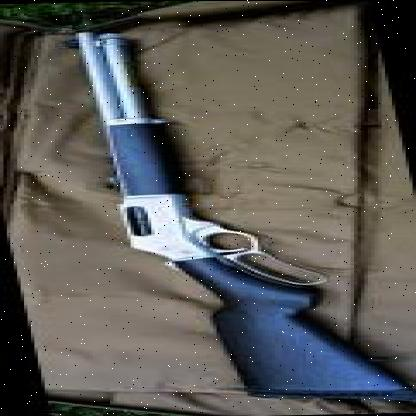rifle: (58, 23, 416, 408)
